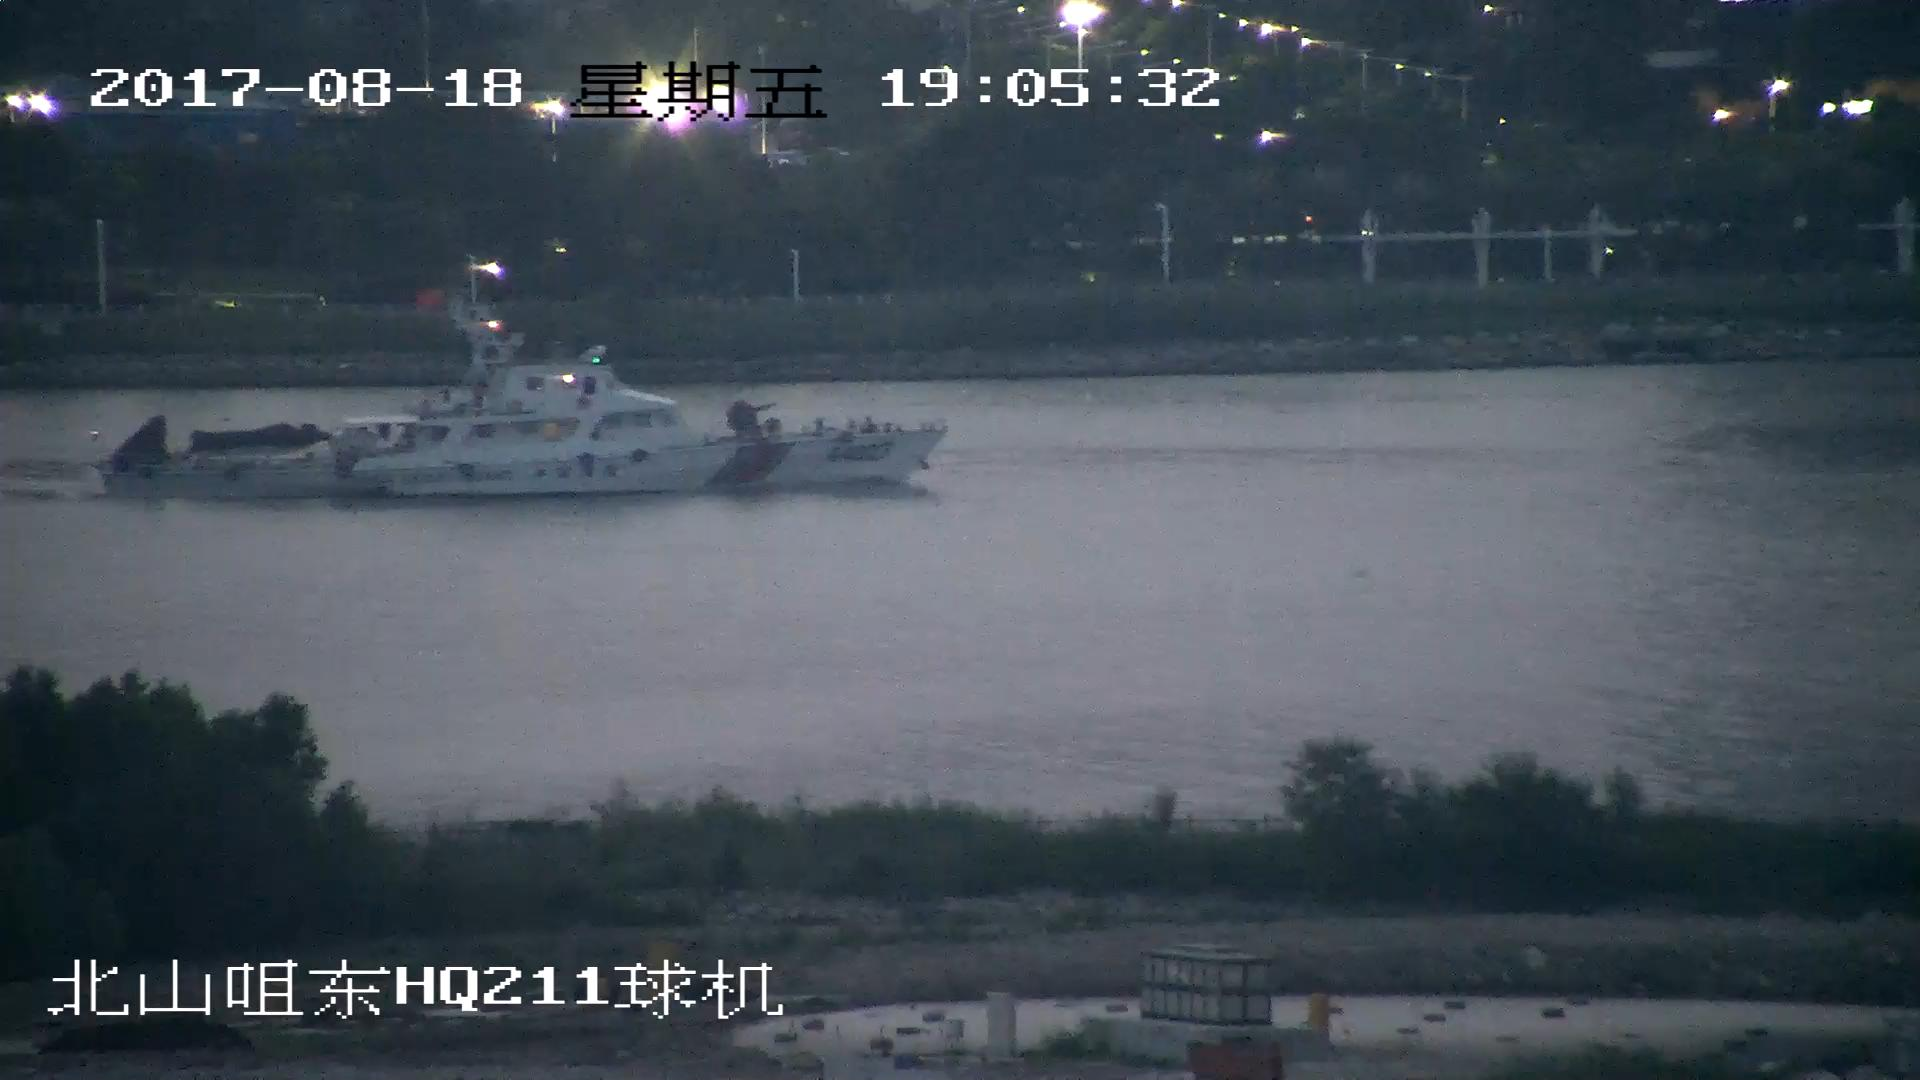passenger ship: (98, 288, 952, 494)
